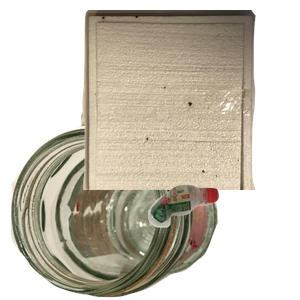glass: (10, 126, 220, 300)
metal: (69, 93, 265, 273)
plastic: (146, 182, 300, 300)
trash: (80, 10, 300, 190)
